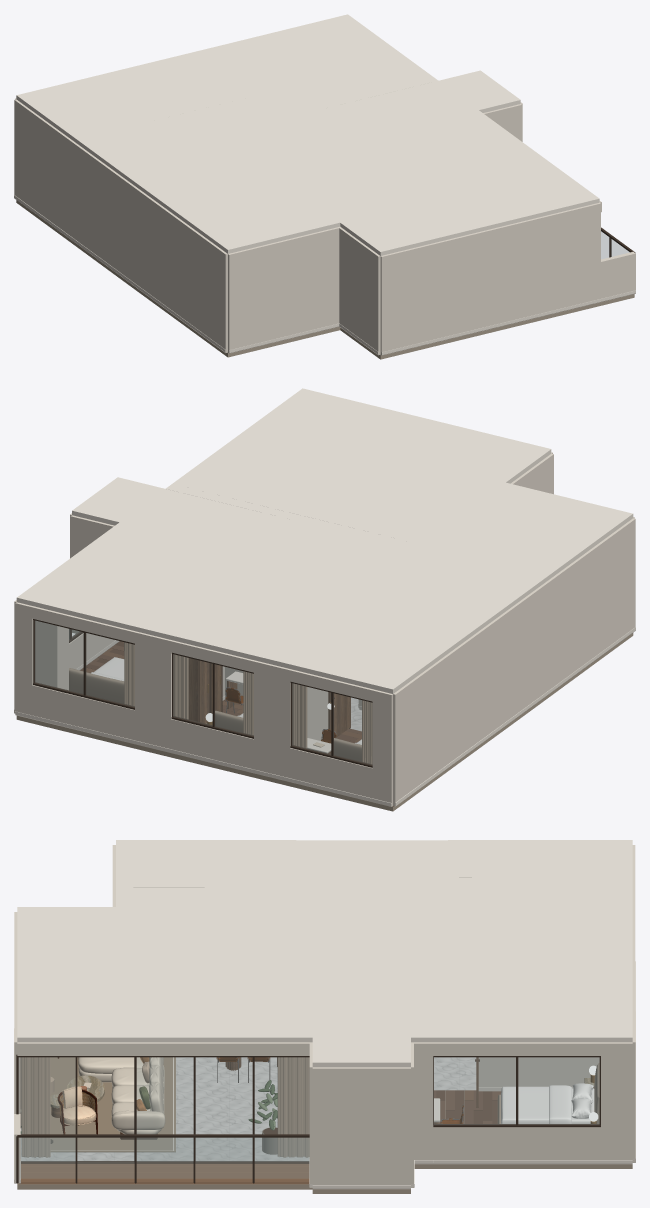
The picture shows the model from 3 angles, top to bottom: view 1: azimuth 30°, elevation 25°; view 2: azimuth 150°, elevation 25°; view 3: azimuth 270°, elevation 25°; orthographic projection. The views are drawn at different scales.
Visible parts, largest first — view 1: Warm white millwork.002, Ivory plaster.001, Ivory plaster, Warm white millwork, Tile seam; view 2: Warm white millwork.002, Ivory plaster.001, Ivory plaster, Window glass.001, Linen, Warm white millwork, Tile seam, Blackened bronze.003, Bed • taupe upholstery, Walnut veneer.002, Walnut veneer.001; view 3: Warm white millwork.002, Window glass.001, Ivory plaster.001, Ivory plaster, Honed light gray marble floor.007, Window glass, Retained balcony deck, Linen, Taupe wool.001, Resort ivory bouclé, White linen bedding, Tile seam (+7 smaller).
Boxes of the visible parts, x1,y1,x2,y2 form: Warm white millwork.002: [16, 14, 599, 255]; Ivory plaster.001: [14, 98, 635, 318]; Ivory plaster: [14, 162, 635, 355]; Warm white millwork: [14, 195, 635, 355]; Tile seam: [16, 200, 634, 359]; Warm white millwork.002: [16, 388, 633, 693]; Ivory plaster.001: [14, 452, 635, 765]; Ivory plaster: [14, 589, 635, 806]; Window glass.001: [35, 621, 372, 764]; Linen: [124, 642, 372, 764]; Warm white millwork: [14, 627, 635, 806]; Tile seam: [16, 629, 633, 811]; Blackened bronze.003: [33, 619, 372, 767]; Bed • taupe upholstery: [69, 668, 361, 761]; Walnut veneer.002: [124, 642, 331, 754]; Walnut veneer.001: [328, 692, 350, 737]; Warm white millwork.002: [17, 840, 632, 1067]; Window glass.001: [19, 1057, 599, 1161]; Ivory plaster.001: [14, 845, 635, 1144]; Ivory plaster: [14, 1057, 635, 1189]; Honed light gray marble floor.007: [21, 1057, 476, 1160]; Window glass: [19, 1138, 309, 1178]; Retained balcony deck: [17, 1163, 309, 1184]; Linen: [21, 1057, 309, 1157]; Taupe wool.001: [50, 1057, 175, 1152]; Resort ivory bouclé: [78, 1057, 165, 1134]; White linen bedding: [501, 1083, 594, 1123]; Tile seam: [17, 1091, 632, 1193].
Bounding box in the file's own units: 10.84 × 2.95 × 12.64.
Materials: 40 (7 with a texture image).
